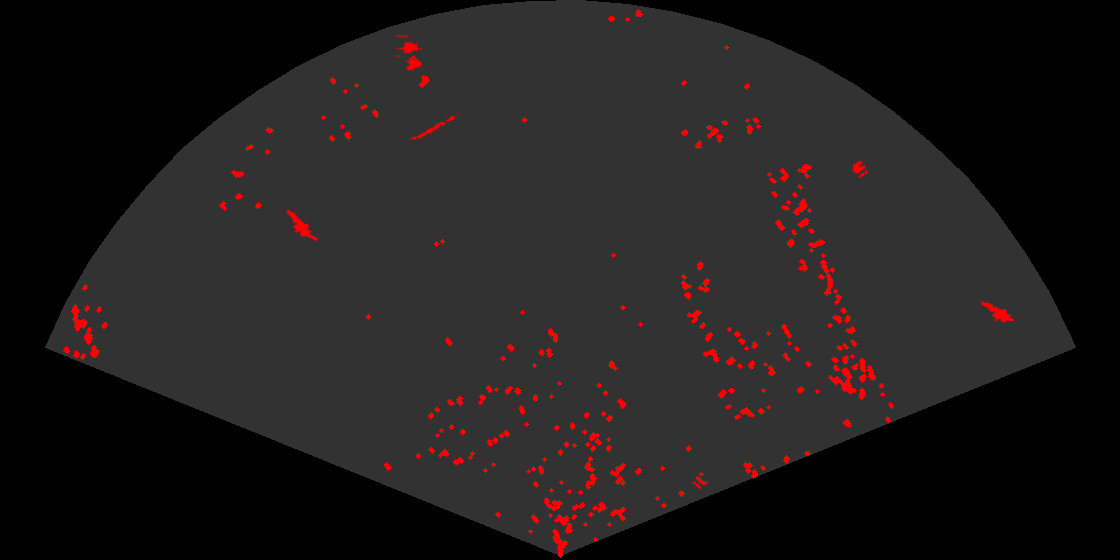ball: (850, 159, 870, 179), (691, 471, 710, 491)
cage: (396, 35, 424, 72)
chain: (409, 111, 461, 142)
frogman: (280, 207, 317, 243), (978, 300, 1013, 325)
